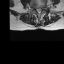CCS_normal: (38, 5, 39, 15)
LFS_normal: (41, 4, 43, 10)
LLS_normal: (39, 5, 41, 14)
RFS_severe_stenosis: (33, 4, 35, 11)
RLS_normal: (35, 5, 38, 14)
